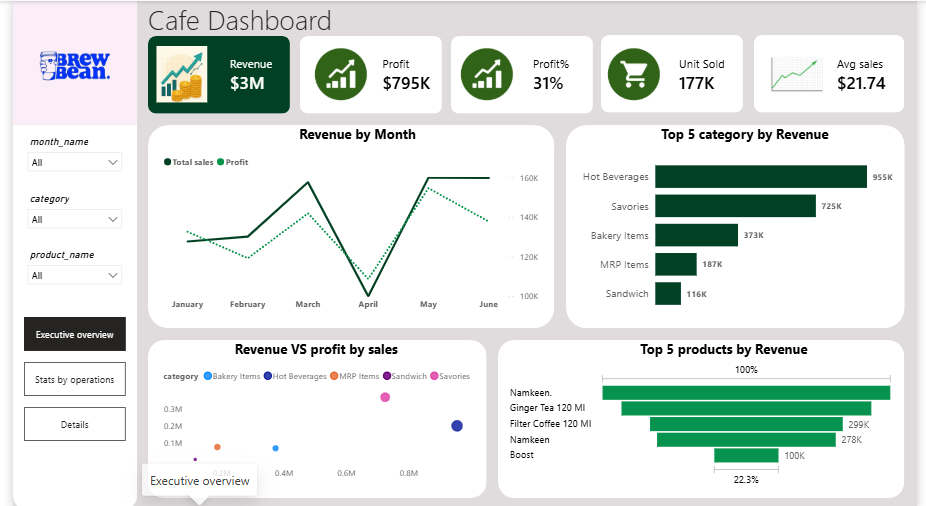

The dashboard page shown, as its layout file describes it:
{"tool":"powerbi","page":{"name":"Executive overview","canvas":[1280,720],"ordinal":0},"visuals":[{"type":"shape","box":[192,49.3,201.5,110.1],"z":0,"group":"g1"},{"type":"shape","box":[784,176,480,288],"z":0},{"type":"shape","box":[0,0,176,720],"z":1000},{"type":"cardVisual","fields":{"Data":["Tuck_shop_data.Total sales"]},"box":[291.7,48,96,112],"z":1000,"group":"g1"},{"type":"shape","box":[1051.1,48,212.9,110.1],"z":2000,"group":"g1"},{"type":"shape","box":[192,176,576,288],"z":2000},{"type":"shape","box":[407.9,49.3,201.5,110.1],"z":3000,"group":"g1"},{"type":"lineChart","fields":{"Category":["Tuck_shop_data.order_date.Variation.Date Hierarchy.Month"],"Y":["Tuck_shop_data.Total sales"],"Y2":["Tuck_shop_data.Profit"]},"box":[208,208,544,240],"z":3000},{"type":"cardVisual","fields":{"Data":["Tuck_shop_data.Profit"]},"box":[512,48,96,112],"z":4000,"group":"g1"},{"type":"shape","box":[688,480,576,224],"z":4000},{"type":"cardVisual","fields":{"Data":["Tuck_shop_data.Avg sales"]},"box":[1152,48,112,112],"z":5000,"group":"g1"},{"type":"funnel","fields":{"Category":["Tuck_shop_data.product_name"],"Y":["Tuck_shop_data.Total sales"]},"box":[704,512,544,176],"z":5000},{"type":"shape","box":[620.8,49.9,201.5,110.1],"z":6000,"group":"g1"},{"type":"shape","box":[192,480,480,224],"z":6000},{"type":"cardVisual","fields":{"Data":["Tuck_shop_data.Profit%"]},"box":[720,48,96,112],"z":7000,"group":"g1"},{"type":"barChart","fields":{"Category":["Tuck_shop_data.category"],"Y":["Tuck_shop_data.Total sales"]},"box":[800,208,448,240],"z":7000},{"type":"shape","box":[833.7,48,201.5,110.1],"z":8000,"group":"g1"},{"type":"scatterChart","fields":{"X":["Tuck_shop_data.Total sales"],"Y":["Tuck_shop_data.Profit"],"Series":["Tuck_shop_data.category"],"Size":["Tuck_shop_data.Unit Sold"]},"box":[208,512,448,176],"z":8000},{"type":"cardVisual","fields":{"Data":["Tuck_shop_data.Unit Sold"]},"box":[928,48,112,112],"z":9000,"group":"g1"},{"type":"textbox","box":[208,176,560,32],"z":9000},{"type":"textbox","box":[832,176,416,32],"z":10000},{"type":"textbox","box":[736,480,544,32],"z":11000},{"type":"textbox","box":[208,480,448,32],"z":12000},{"type":"cardVisual","fields":{"Data":["Tuck_shop_data.dynamic_title"]},"box":[192,0,1072,48],"z":13000},{"type":"slicer","fields":{"Values":["Tuck_shop_data.month_name"]},"box":[16,192,144,65.5],"z":14000},{"type":"slicer","fields":{"Values":["Tuck_shop_data.category"]},"box":[16,272,144,65.5],"z":15000},{"type":"slicer","fields":{"Values":["Tuck_shop_data.product_name"]},"box":[16,352,144,65.5],"z":16000},{"type":"group","id":"g1","title":"Group 1","box":[192,48,1072,112],"z":17000},{"type":"pageNavigator","box":[16,448,144,48],"z":18000},{"type":"pageNavigator","box":[16,512,144,48],"z":19000},{"type":"pageNavigator","box":[16,576,144,48],"z":20000},{"type":"image","box":[1072,64,80,80],"z":21000},{"type":"image","box":[416,64,96,80],"z":22000},{"type":"image","box":[624,64,96,80],"z":23000},{"type":"image","box":[832,64,96,80],"z":24000},{"type":"image","box":[192,64,96,80],"z":25000},{"type":"image","box":[0,0,176,176],"z":26000}]}

Visuals, with their boxes on the page's 1280x720 design canvas (x1, y1, x2, y2). These are canvas units, not pixel positions in the 926x506 screenshot, which may show the page scaled, cropped or inside an application window:
shape: x1=192 y1=49 x2=394 y2=159
shape: x1=784 y1=176 x2=1264 y2=464
shape: x1=0 y1=0 x2=176 y2=720
cardVisual - Tuck_shop_data.Total sales: x1=292 y1=48 x2=388 y2=160
shape: x1=1051 y1=48 x2=1264 y2=158
shape: x1=192 y1=176 x2=768 y2=464
shape: x1=408 y1=49 x2=609 y2=159
lineChart - Tuck_shop_data.order_date.Variation.Date Hierarchy.Month x Tuck_shop_data.Total sales: x1=208 y1=208 x2=752 y2=448
cardVisual - Tuck_shop_data.Profit: x1=512 y1=48 x2=608 y2=160
shape: x1=688 y1=480 x2=1264 y2=704
cardVisual - Tuck_shop_data.Avg sales: x1=1152 y1=48 x2=1264 y2=160
funnel - Tuck_shop_data.product_name x Tuck_shop_data.Total sales: x1=704 y1=512 x2=1248 y2=688
shape: x1=621 y1=50 x2=822 y2=160
shape: x1=192 y1=480 x2=672 y2=704
cardVisual - Tuck_shop_data.Profit%: x1=720 y1=48 x2=816 y2=160
barChart - Tuck_shop_data.category x Tuck_shop_data.Total sales: x1=800 y1=208 x2=1248 y2=448
shape: x1=834 y1=48 x2=1035 y2=158
scatterChart - Tuck_shop_data.Total sales x Tuck_shop_data.Profit: x1=208 y1=512 x2=656 y2=688
cardVisual - Tuck_shop_data.Unit Sold: x1=928 y1=48 x2=1040 y2=160
textbox: x1=208 y1=176 x2=768 y2=208
textbox: x1=832 y1=176 x2=1248 y2=208
textbox: x1=736 y1=480 x2=1280 y2=512
textbox: x1=208 y1=480 x2=656 y2=512
cardVisual - Tuck_shop_data.dynamic_title: x1=192 y1=0 x2=1264 y2=48
slicer - Tuck_shop_data.month_name: x1=16 y1=192 x2=160 y2=258
slicer - Tuck_shop_data.category: x1=16 y1=272 x2=160 y2=338
slicer - Tuck_shop_data.product_name: x1=16 y1=352 x2=160 y2=418
"Group 1" group: x1=192 y1=48 x2=1264 y2=160
pageNavigator: x1=16 y1=448 x2=160 y2=496
pageNavigator: x1=16 y1=512 x2=160 y2=560
pageNavigator: x1=16 y1=576 x2=160 y2=624
image: x1=1072 y1=64 x2=1152 y2=144
image: x1=416 y1=64 x2=512 y2=144
image: x1=624 y1=64 x2=720 y2=144
image: x1=832 y1=64 x2=928 y2=144
image: x1=192 y1=64 x2=288 y2=144
image: x1=0 y1=0 x2=176 y2=176
